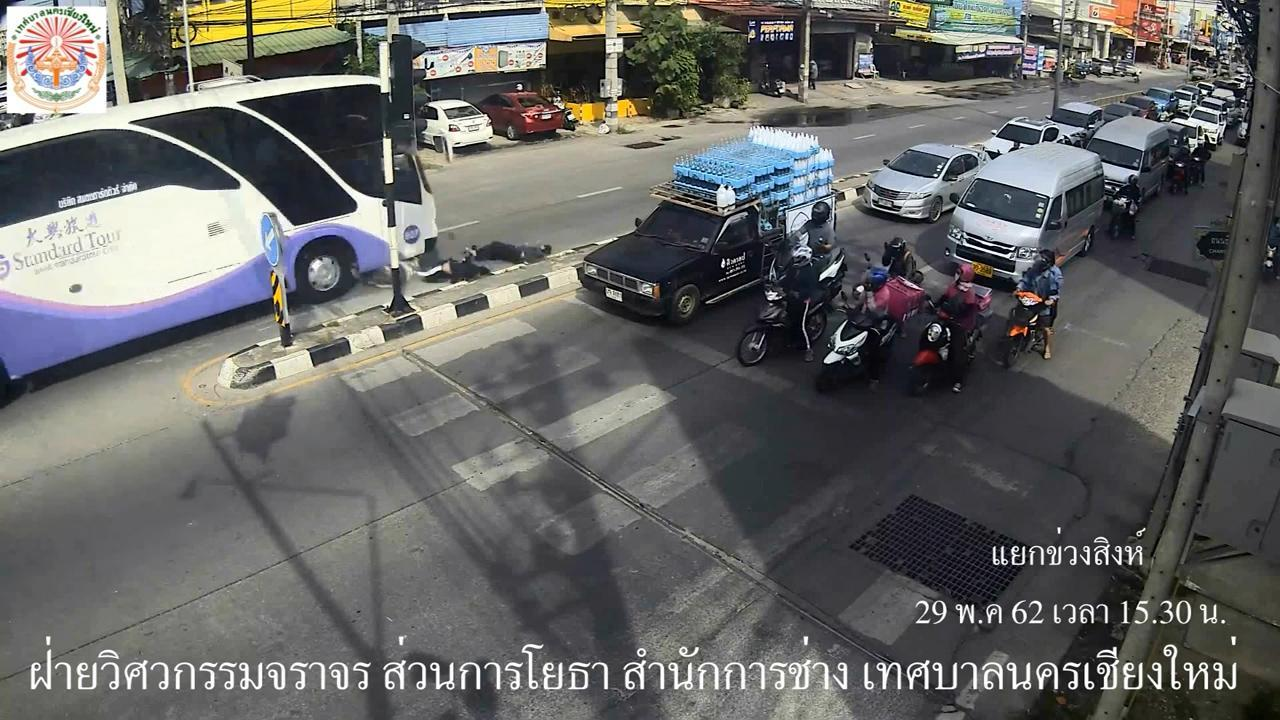accident: (460, 233, 561, 264)
